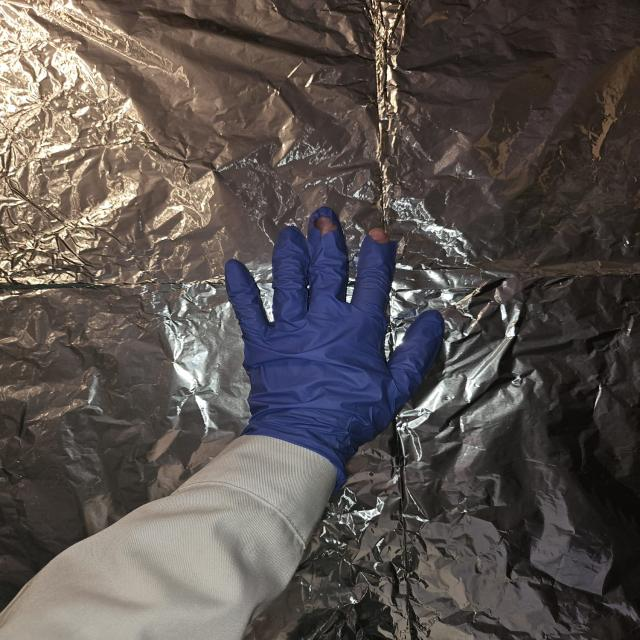gloves_damaged: (219, 204, 446, 487)
